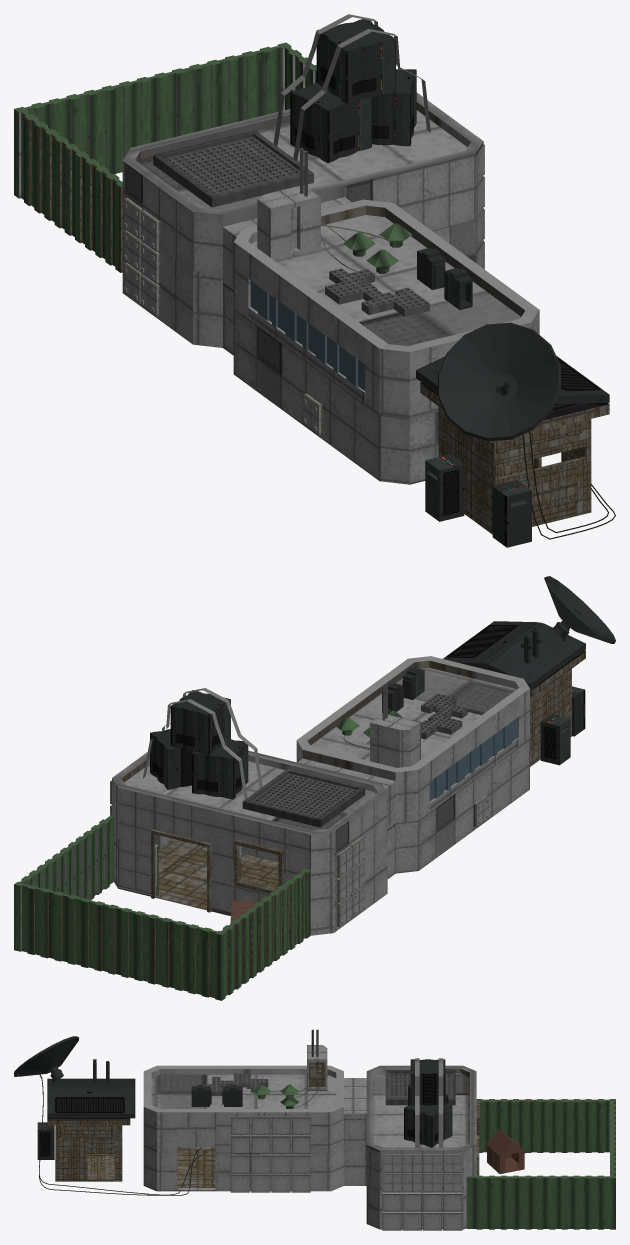
Rendered from Antenna_House.fbx.
The picture shows the model from 3 angles, top to bottom: view 1: azimuth 30°, elevation 25°; view 2: azimuth 150°, elevation 25°; view 3: azimuth 270°, elevation 25°; orthographic projection. The views are drawn at different scales.
Parts seen in each view (by area): view 1: Top1, Bottom1, Top2, Bottom2; view 2: Top1, Bottom1, Top2, Bottom2; view 3: Top1, Bottom1, Top2, Bottom2, DogHouse.
Boxes of the visible parts, x1,y1,x2,y2 form: Top1: (122, 14, 539, 418); Bottom1: (14, 42, 484, 484); Top2: (416, 322, 609, 461); Bottom2: (425, 421, 615, 547); Top1: (110, 656, 529, 879); Bottom1: (14, 739, 529, 1000); Top2: (443, 576, 615, 709); Bottom2: (530, 629, 585, 766); Top1: (143, 1029, 479, 1191); Bottom1: (143, 1099, 615, 1230); Top2: (14, 1036, 135, 1137); Bottom2: (37, 1073, 201, 1195); DogHouse: (486, 1129, 525, 1174).
Bounding box in the file's own units: 12.56 × 9.29 × 34.78.
